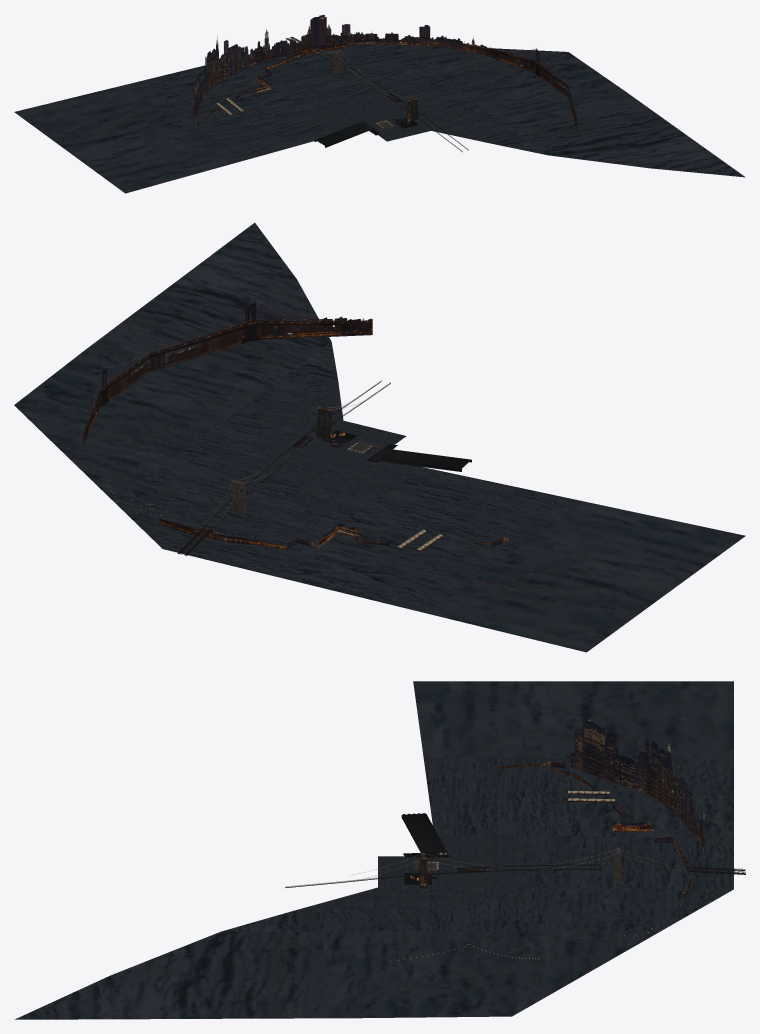
File: brooklyn_bridge_at_night.glb
The picture shows the model from 3 angles, top to bottom: view 1: azimuth 30°, elevation 25°; view 2: azimuth 150°, elevation 25°; view 3: azimuth 270°, elevation 25°; orthographic projection. The views are drawn at different scales.
Parts seen in each view (by area): view 1: 1ROAD_1, Object019_0.13_0, shape40, shape64, 1WALL_20; view 2: 1ROAD_1, shape40, shape64, 1WALL_20; view 3: 1ROAD_1, Object019_0.13_0, shape64, 1WALL_20.
Boxes of the visible parts, box(x1,y1,x2,y2) form: 1ROAD_1: box(14, 42, 745, 193); Object019_0.13_0: box(192, 15, 375, 122); shape40: box(205, 25, 576, 131); shape64: box(197, 54, 297, 130); 1WALL_20: box(314, 121, 371, 147); 1ROAD_1: box(14, 222, 745, 652); shape40: box(83, 301, 372, 542); shape64: box(227, 523, 508, 551); 1WALL_20: box(372, 448, 471, 471); 1ROAD_1: box(15, 681, 733, 1019); Object019_0.13_0: box(570, 719, 704, 853); shape64: box(543, 759, 687, 868); 1WALL_20: box(401, 813, 447, 853).
Bounding box in the file's own units: 1264 × 128 × 1155.
30 materials, 30 textured.
